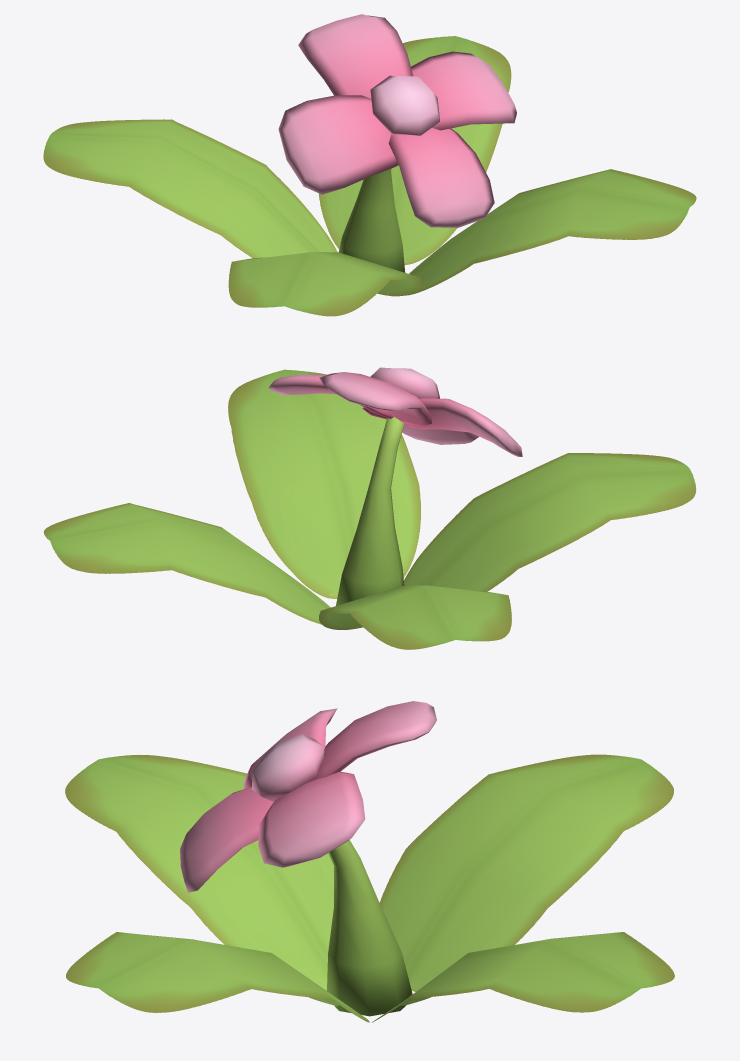
Rendered from mct_foliage_flower02.fbx.
3 views of the same model, one above another, from view 1: azimuth 30°, elevation 25°; view 2: azimuth 150°, elevation 25°; view 3: azimuth 270°, elevation 25° (orthographic). The views are drawn at different scales.
Parts seen in each view (by area): view 1: mct_foliage_flower_02; view 2: mct_foliage_flower_02; view 3: mct_foliage_flower_02.
Part boxes in pixels (left/top/right/bottom): mct_foliage_flower_02: left=43, top=14, right=696, bottom=316; mct_foliage_flower_02: left=43, top=367, right=696, bottom=649; mct_foliage_flower_02: left=65, top=701, right=674, bottom=1022.
Bounding box in the file's own units: 87.89 × 38.87 × 87.89.
